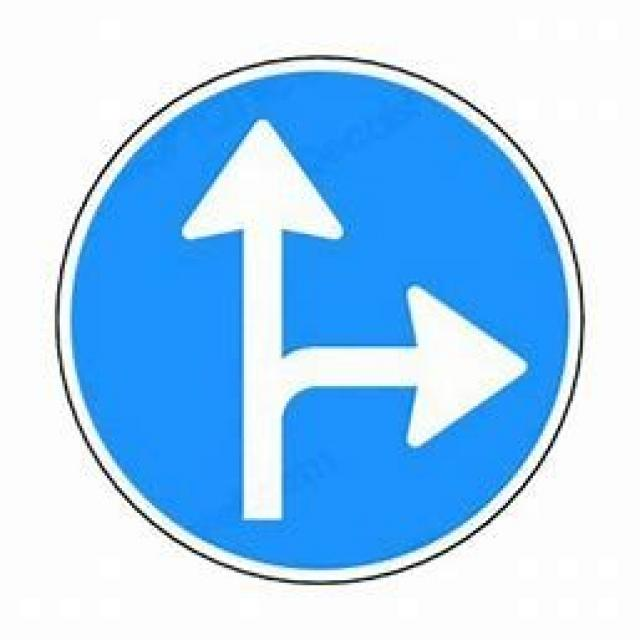COMPULSARY_AHEAD_OR_TURN_RIGHT: (52, 55, 583, 585)
